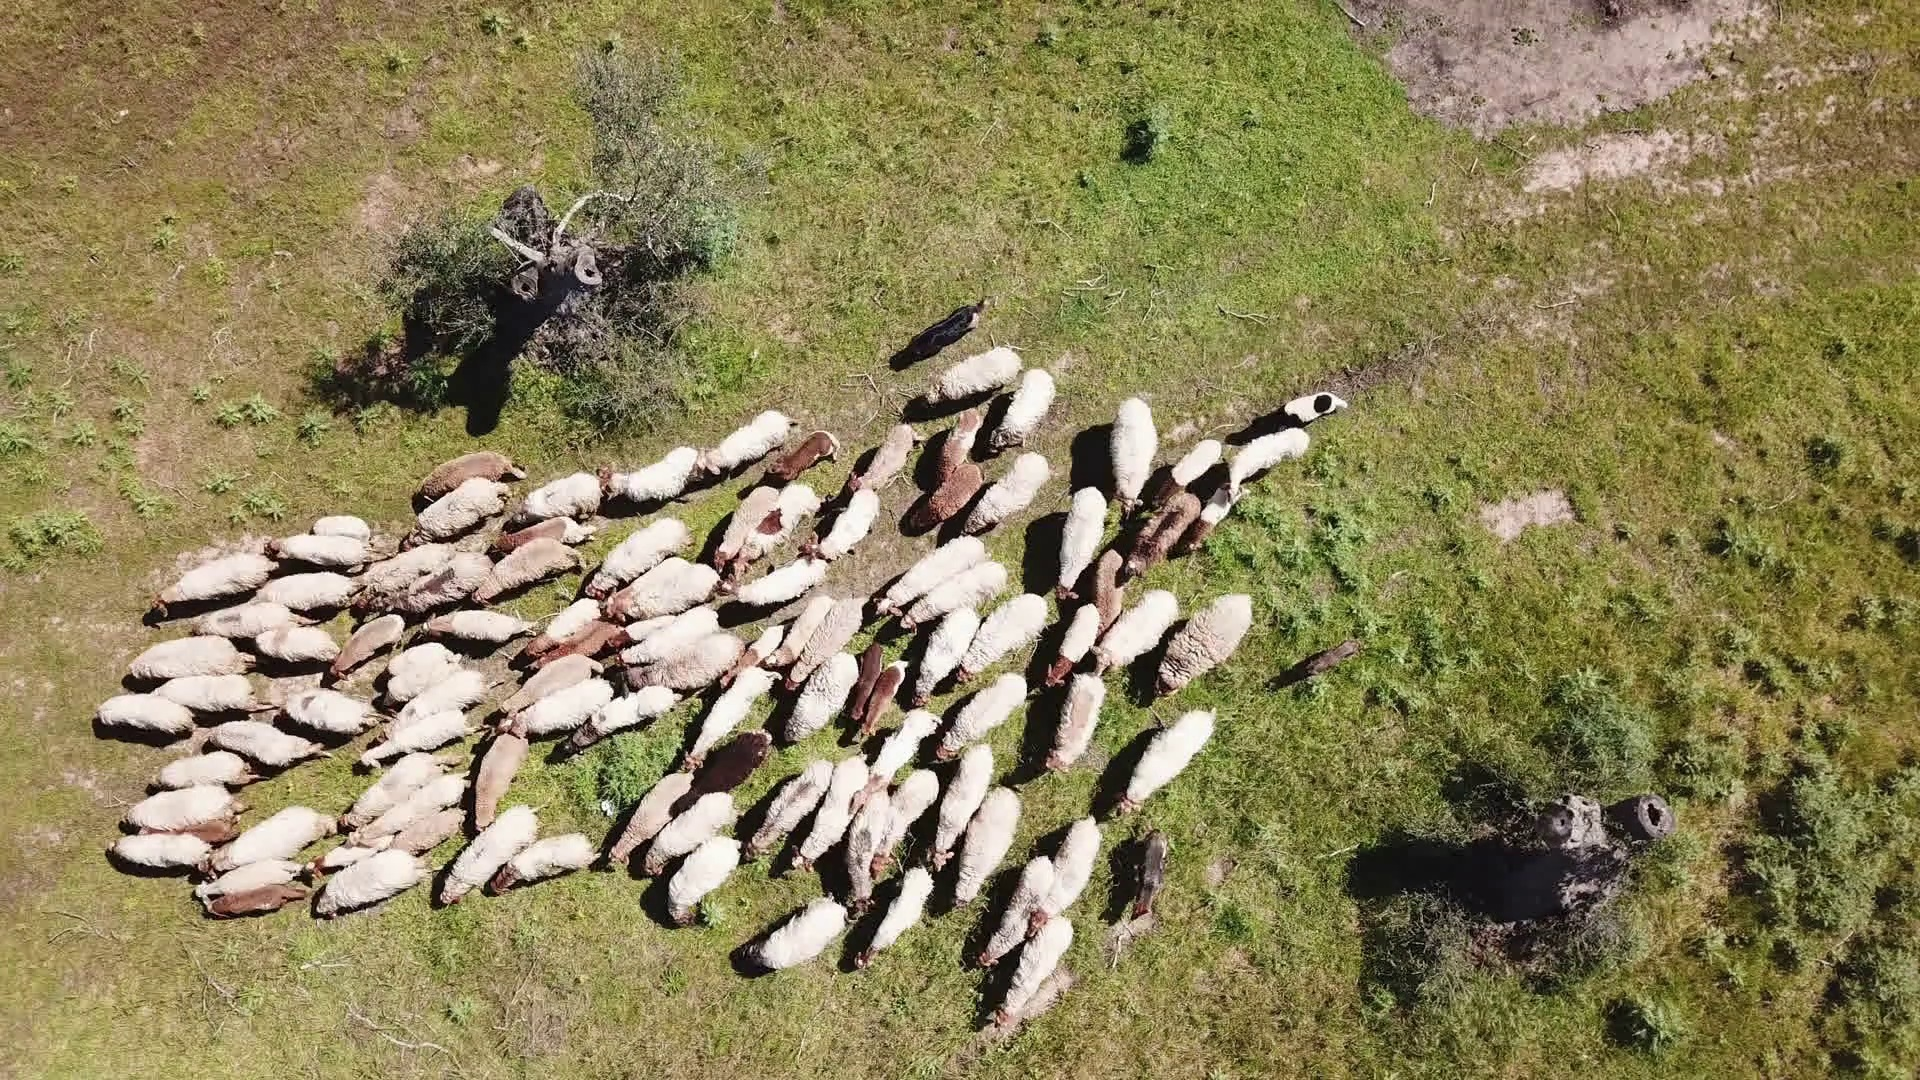sheep: (196, 804, 347, 894), (357, 777, 487, 876), (994, 909, 1087, 1040), (1135, 589, 1247, 691), (448, 802, 549, 913), (1116, 707, 1218, 810), (781, 596, 885, 698), (310, 851, 444, 927), (738, 891, 855, 978), (742, 756, 835, 860), (1033, 818, 1120, 927), (862, 862, 940, 982), (799, 760, 881, 872), (638, 794, 750, 876), (876, 535, 993, 613), (669, 731, 786, 808), (621, 632, 746, 704), (930, 670, 1026, 762), (578, 510, 694, 585), (934, 748, 1004, 872), (605, 771, 696, 866), (376, 671, 501, 740), (659, 833, 752, 923), (493, 828, 605, 902), (363, 537, 475, 611), (957, 589, 1052, 676), (956, 786, 1019, 916), (211, 713, 342, 777), (597, 560, 731, 622), (589, 440, 713, 506), (984, 855, 1051, 975), (703, 398, 796, 484), (347, 756, 444, 836), (149, 553, 276, 615), (1079, 588, 1164, 679), (773, 653, 856, 746), (125, 781, 251, 843), (1048, 669, 1124, 770), (381, 810, 495, 877), (909, 562, 1006, 638), (964, 452, 1044, 545), (563, 684, 661, 760), (913, 605, 988, 698), (117, 633, 248, 686), (735, 550, 839, 616), (349, 711, 473, 766), (471, 535, 595, 591), (986, 367, 1064, 452), (1121, 483, 1185, 585), (611, 607, 727, 663), (502, 653, 618, 709), (897, 297, 994, 364), (145, 669, 272, 720), (864, 708, 945, 787), (410, 480, 502, 550), (410, 603, 533, 654), (698, 483, 779, 559), (891, 760, 953, 860), (418, 444, 533, 498), (185, 858, 316, 905), (258, 556, 359, 617), (760, 483, 827, 572), (465, 735, 529, 829), (196, 887, 320, 935), (88, 694, 204, 744), (922, 406, 989, 491), (1102, 404, 1164, 495), (468, 510, 601, 553), (146, 746, 261, 795), (764, 593, 839, 667), (1124, 824, 1172, 938), (326, 611, 404, 680), (837, 793, 895, 886), (102, 828, 204, 881), (266, 524, 372, 575), (400, 558, 502, 611), (934, 345, 1023, 405), (505, 678, 596, 736), (1043, 485, 1093, 589), (371, 642, 468, 694), (1229, 427, 1313, 487), (855, 414, 922, 487), (855, 662, 907, 752), (814, 491, 884, 558), (1189, 491, 1251, 566), (920, 469, 982, 539), (508, 473, 607, 516), (282, 690, 375, 735), (522, 597, 601, 647), (252, 625, 335, 673), (767, 423, 828, 488), (187, 604, 322, 633), (1087, 551, 1126, 647), (1051, 612, 1098, 688), (1174, 438, 1232, 495), (285, 509, 382, 541), (1280, 386, 1353, 426), (840, 640, 878, 713)
